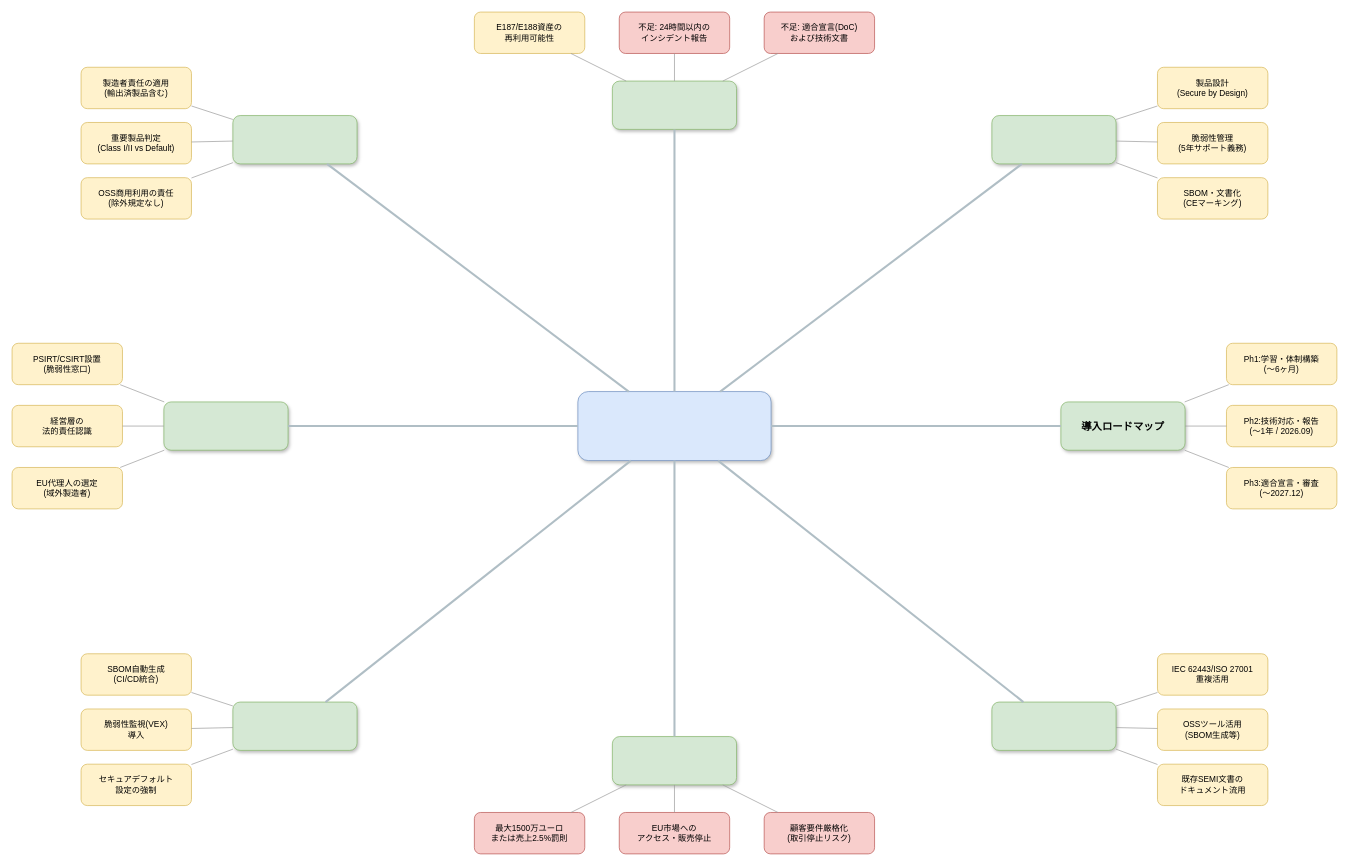
Image size: 1349x866. Some labels were removed from this diagram. Each missing label, with the centre of its shape:
"CRA必須要件 (Must)" goes at [1054,140].
"EU CRA対策戦略 (SEMI規格準拠企業向け)" goes at [674,426].
"SEMI規格とのギャップ" goes at [675,106].
"コスト最適化戦略" goes at [1054,727].
"リスクシナリオ" goes at [675,761].
"体制・組織" goes at [226,426].
"技術的対応" goes at [295,727].
"規制スコープと分類" goes at [295,140].
